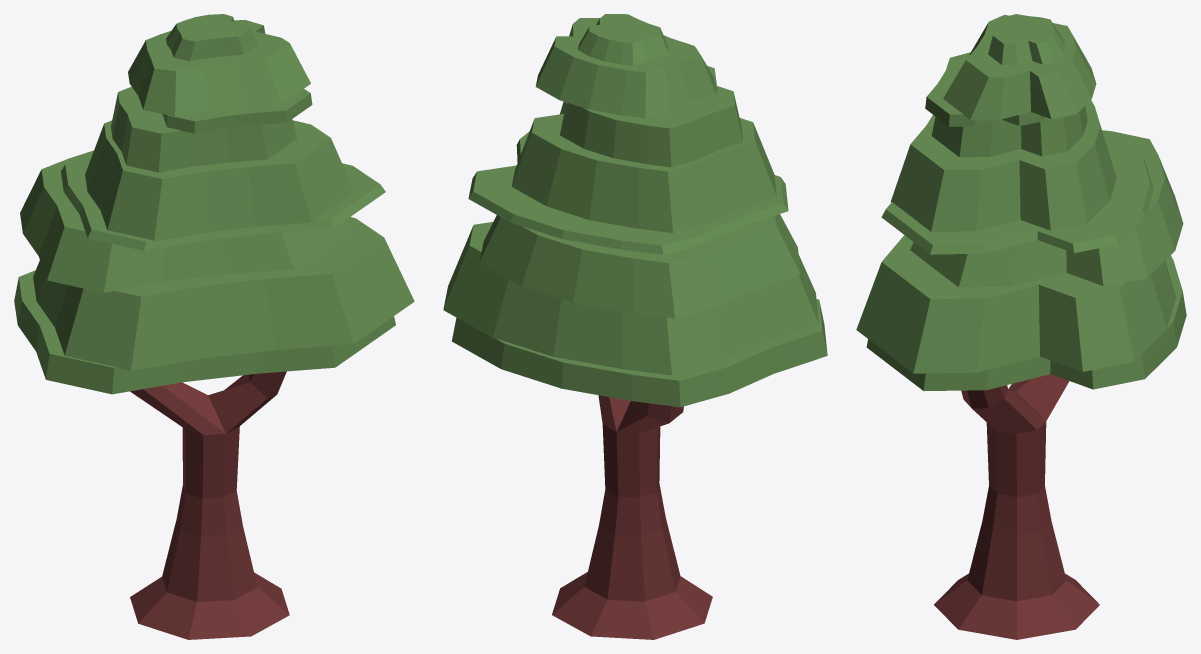
Rendered from low_poly_trees.glb.
The picture shows the model from 3 angles, left to right: view 1: azimuth 30°, elevation 25°; view 2: azimuth 150°, elevation 25°; view 3: azimuth 270°, elevation 25°; orthographic projection.
Parts seen in each view (by area): view 1: Plane.001, Plane.002; view 2: Plane.001, Plane.002; view 3: Plane.001, Plane.002.
Boxes of the visible parts, x1=… form: Plane.001: x1=14, y1=14, x2=414, y2=394; Plane.002: x1=130, y1=371, x2=289, y2=639; Plane.001: x1=443, y1=14, x2=827, y2=407; Plane.002: x1=552, y1=395, x2=712, y2=639; Plane.001: x1=856, y1=14, x2=1186, y2=391; Plane.002: x1=934, y1=374, x2=1099, y2=639.
Size of the model in its own units: 15.48 by 25.57 by 13.27.
